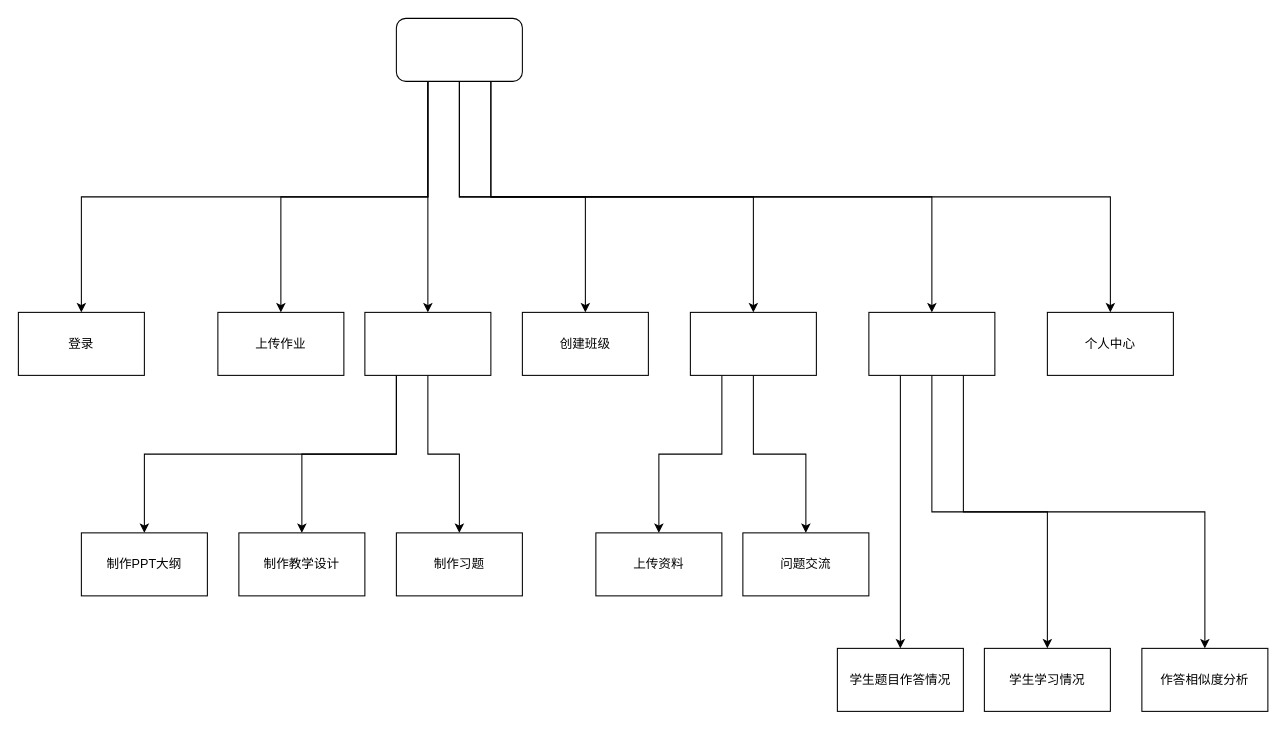
Some shapes in this 1286 by 730 pixel diagram are drawn without their labels. The centre of each missing label's shape, as x and y in pixels:
AI辅助: point (427, 343)
学情分析: point (931, 343)
教学空间: point (752, 343)
教师: point (458, 49)
